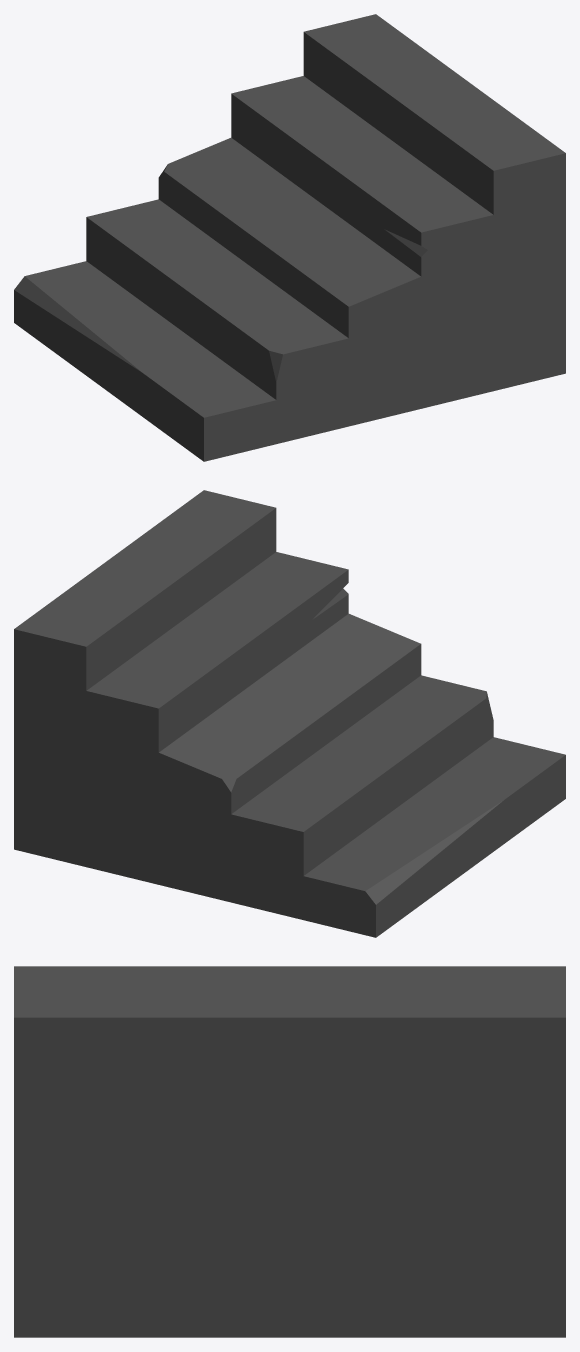
File: Stairs_02.fbx
The picture shows the model from 3 angles, top to bottom: view 1: azimuth 30°, elevation 25°; view 2: azimuth 150°, elevation 25°; view 3: azimuth 270°, elevation 25°; orthographic projection. The views are drawn at different scales.
Parts seen in each view (by area): view 1: Stairs_02_LOD0; view 2: Stairs_02_LOD0; view 3: Stairs_02_LOD0.
Boxes of the visible parts, left/top/right/bottom form: Stairs_02_LOD0: left=14, top=14, right=565, bottom=461; Stairs_02_LOD0: left=14, top=490, right=565, bottom=937; Stairs_02_LOD0: left=14, top=966, right=565, bottom=1337.
Size of what is drawn, in the model's own units: 0.99 by 0.576 by 0.9.
